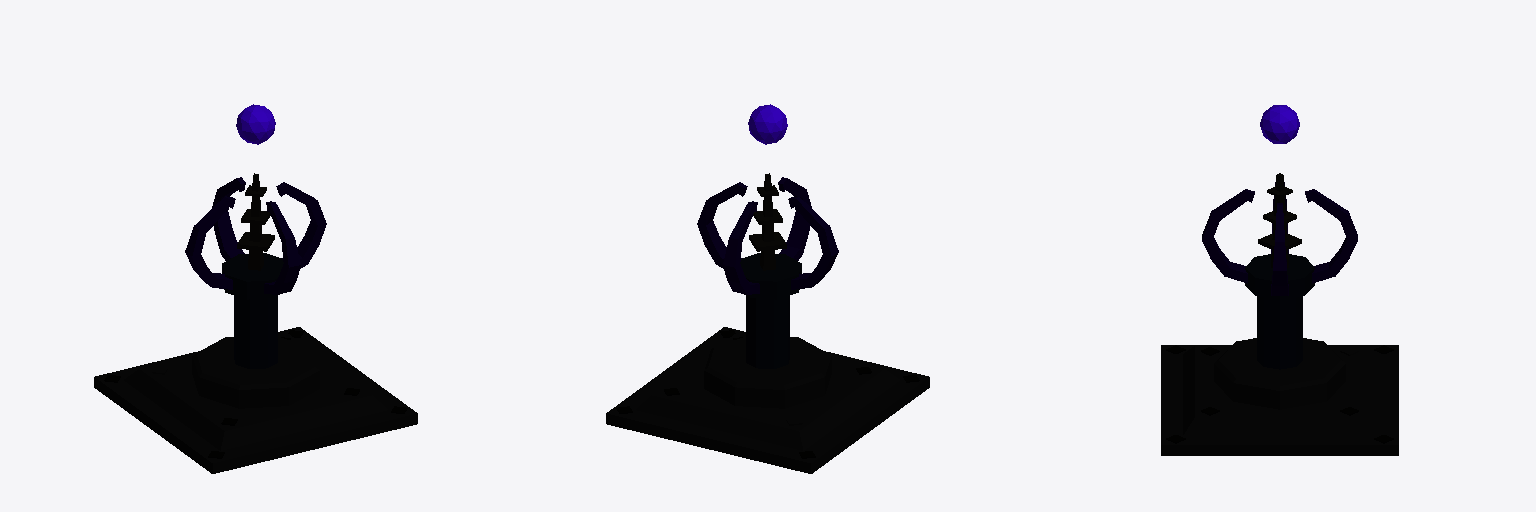
The model's file is LightingTurret.obj.
3 views of the same model, side by side, from view 1: azimuth 30°, elevation 25°; view 2: azimuth 150°, elevation 25°; view 3: azimuth 270°, elevation 25° (orthographic).
Visible parts, largest first — view 1: BaseLightingTurret1, MiddleLightingTurret1, GunLightingTurret1, BallLightingTurret1; view 2: BaseLightingTurret1, MiddleLightingTurret1, GunLightingTurret1, BallLightingTurret1; view 3: BaseLightingTurret1, MiddleLightingTurret1, BallLightingTurret1, GunLightingTurret1.
Part boxes in pixels (bbox=[...]): BaseLightingTurret1: bbox=[94, 327, 417, 473]; MiddleLightingTurret1: bbox=[185, 177, 326, 368]; GunLightingTurret1: bbox=[237, 173, 274, 270]; BallLightingTurret1: bbox=[236, 104, 275, 144]; BaseLightingTurret1: bbox=[606, 327, 929, 473]; MiddleLightingTurret1: bbox=[697, 177, 838, 368]; GunLightingTurret1: bbox=[749, 173, 786, 270]; BallLightingTurret1: bbox=[748, 104, 787, 144]; BaseLightingTurret1: bbox=[1161, 338, 1398, 455]; MiddleLightingTurret1: bbox=[1202, 182, 1357, 369]; BallLightingTurret1: bbox=[1260, 105, 1299, 143]; GunLightingTurret1: bbox=[1258, 173, 1301, 267].
Bounding box in the file's own units: 3.53 × 4.93 × 3.53.